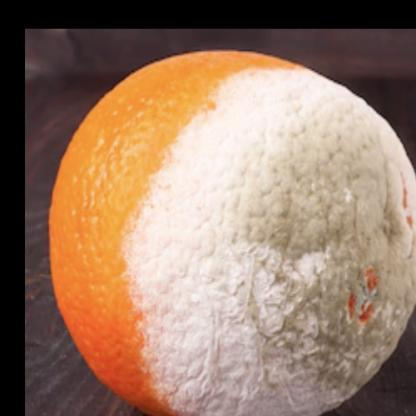rotten: (50, 52, 416, 408)
